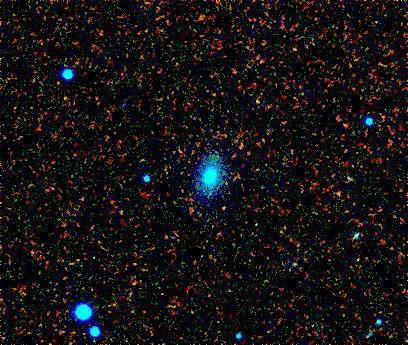star: (328, 112, 358, 142)
